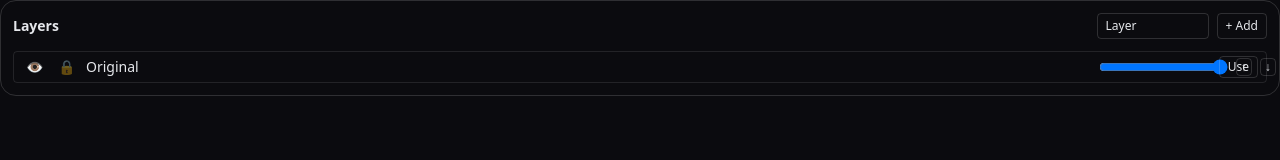
Test: LayersPanel › rename layer › should rename layer on Enter key
This screenshot has width=1280, height=160.
Click the text "Original" at (112, 66), box [86,57,139,76]
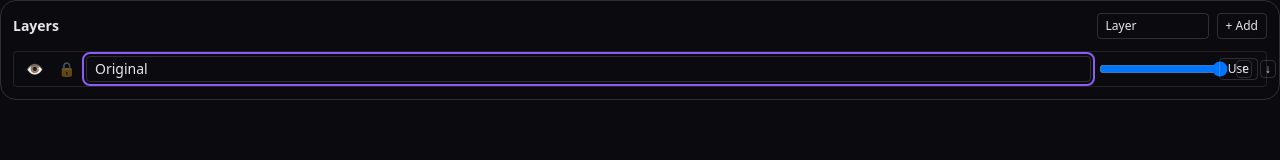
Replace the text in the 2nd field showing "Original" with "Renamed" at (588, 69), box [86,56,1091,82]
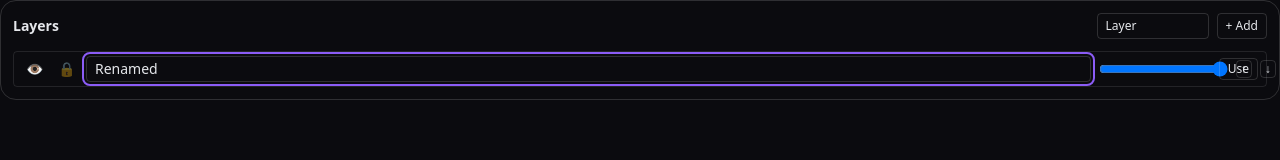
Press Enter in the 2nd field showing "Original", box [86,56,1091,82]
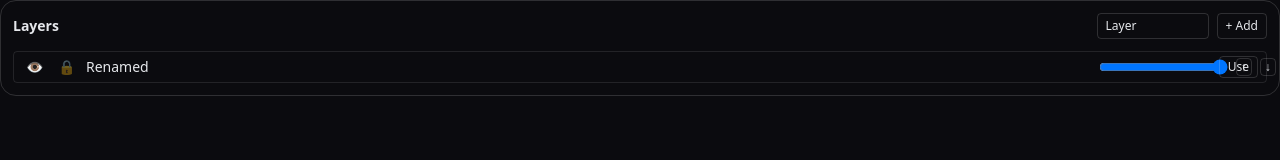
Check: the text "Renamed" is shown, box [86,57,149,76]
